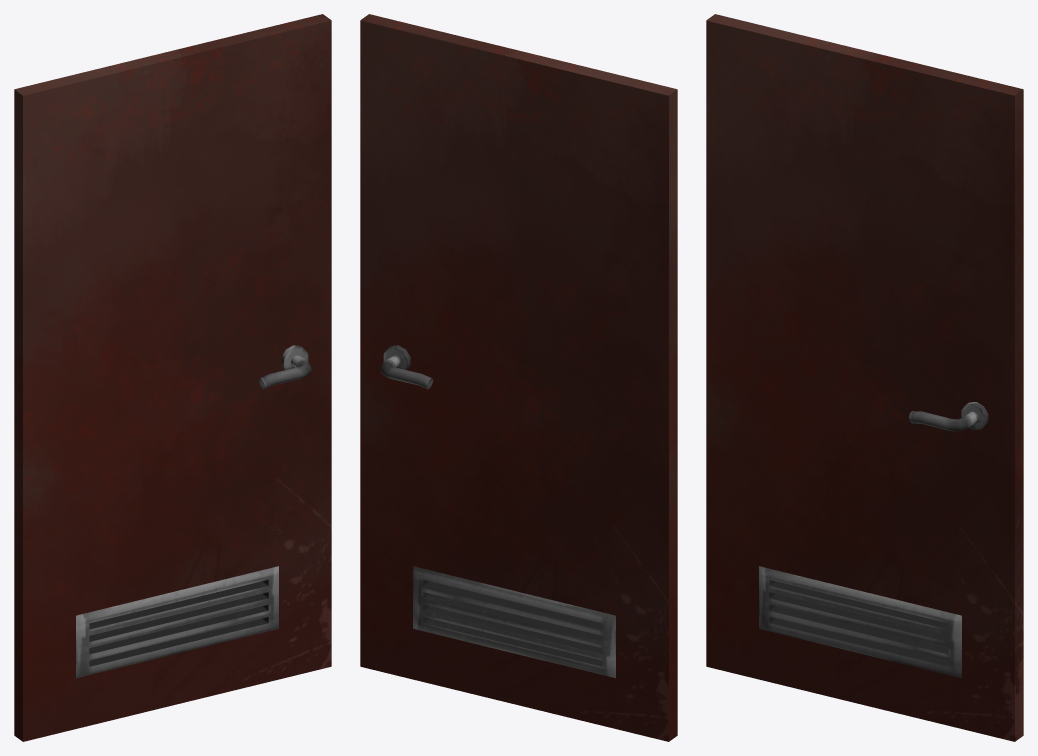
File: Door_Asset.fbx
3 renders of one model, left to right at view 1: azimuth 30°, elevation 25°; view 2: azimuth 150°, elevation 25°; view 3: azimuth 330°, elevation 25°, orthographic.
Visible parts, largest first — view 1: Door, Door.001; view 2: Door, Door.002; view 3: Door, Door.001.
Boxes of the visible parts, bbox=[...] form: Door: bbox=[14, 14, 331, 741]; Door.001: bbox=[258, 355, 311, 389]; Door: bbox=[360, 14, 677, 741]; Door.002: bbox=[380, 355, 433, 389]; Door: bbox=[706, 14, 1023, 741]; Door.001: bbox=[909, 411, 978, 431].
Bounding box in the file's own units: 100 × 26.87 × 200.
1 material, 1 textured.
